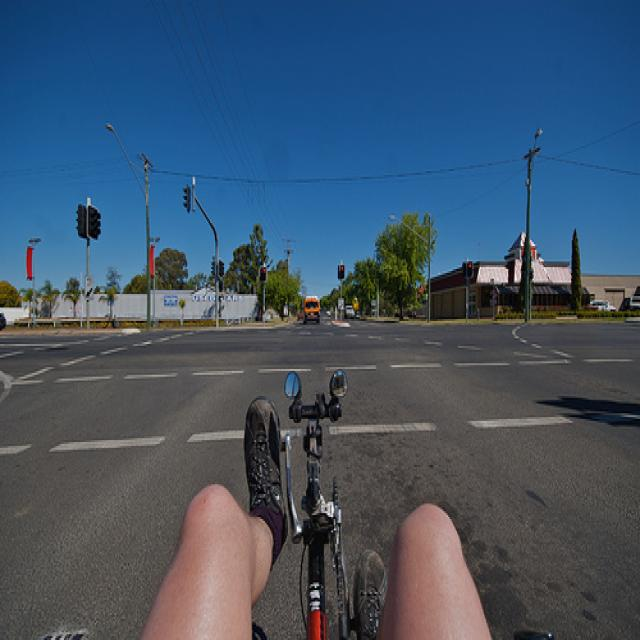Vehicle: (303, 295, 321, 325), (345, 305, 355, 318)
